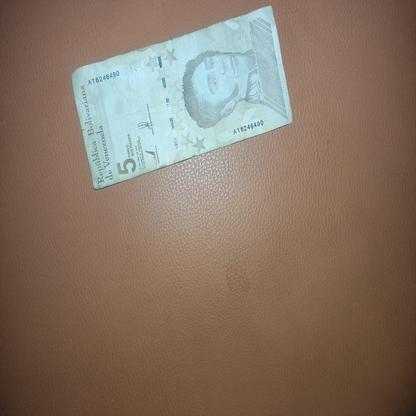five-front-vef: (70, 4, 292, 190)
